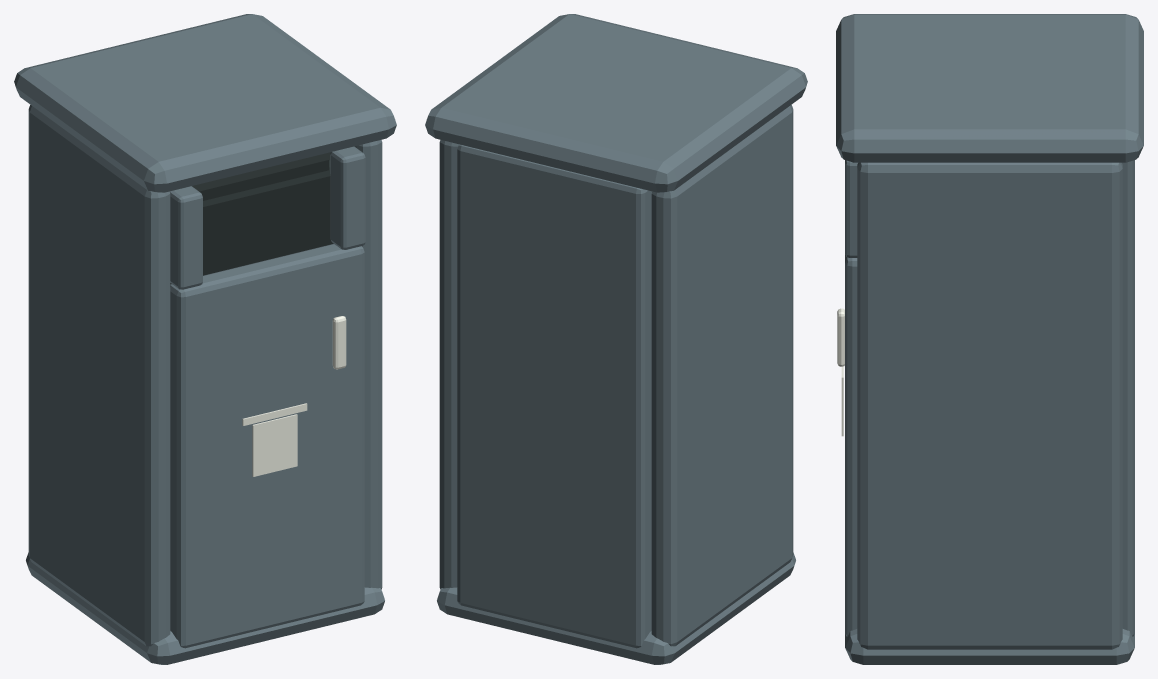
The model's file is SIMUS_TrashBin.glb.
The picture shows the model from 3 angles, left to right: view 1: azimuth 30°, elevation 25°; view 2: azimuth 150°, elevation 25°; view 3: azimuth 270°, elevation 25°; orthographic projection. The views are drawn at different scales.
Parts seen in each view (by area): view 1: TrashBin SIMUS charcoal, TrashBin Bin interior, TrashBin Ivory; view 2: TrashBin SIMUS charcoal; view 3: TrashBin SIMUS charcoal, TrashBin Ivory.
Boxes of the visible parts, left/top/right/bottom form: TrashBin SIMUS charcoal: left=14, top=14, right=396, bottom=664; TrashBin Bin interior: left=170, top=152, right=333, bottom=284; TrashBin Ivory: left=242, top=316, right=346, bottom=476; TrashBin SIMUS charcoal: left=425, top=14, right=807, bottom=664; TrashBin SIMUS charcoal: left=836, top=14, right=1143, bottom=664; TrashBin Ivory: left=837, top=308, right=844, bottom=436.
Bounding box in the file's own units: 0.51 × 0.985 × 0.51.
